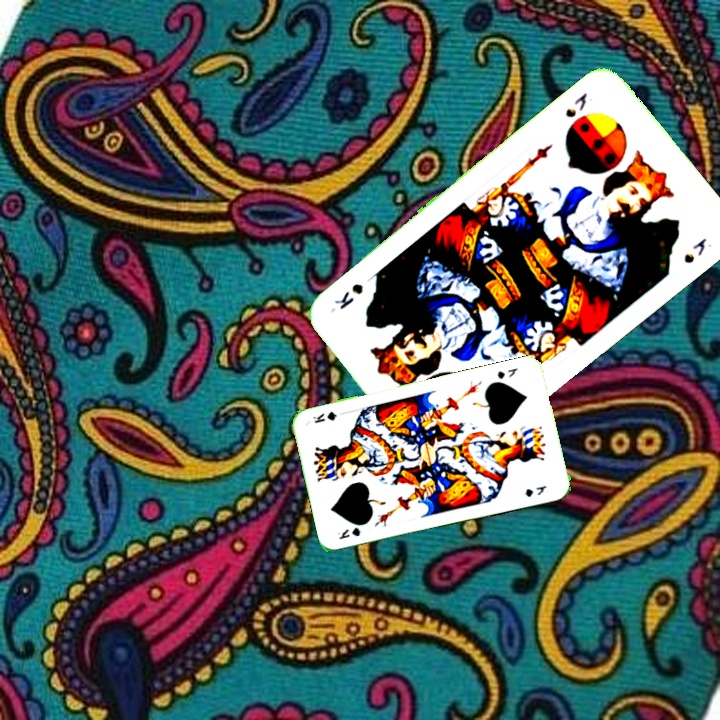GK: (333, 523, 364, 542), (493, 364, 520, 382)
SK: (561, 88, 590, 121)
